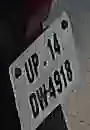1: (58, 66, 68, 86), (46, 39, 55, 61)
4: (52, 32, 62, 56), (47, 78, 57, 100)
8: (64, 59, 73, 81)
9: (53, 71, 62, 94)
D: (29, 92, 39, 119)
P: (30, 53, 43, 77)
U: (24, 59, 34, 83)
W: (36, 84, 50, 109)
